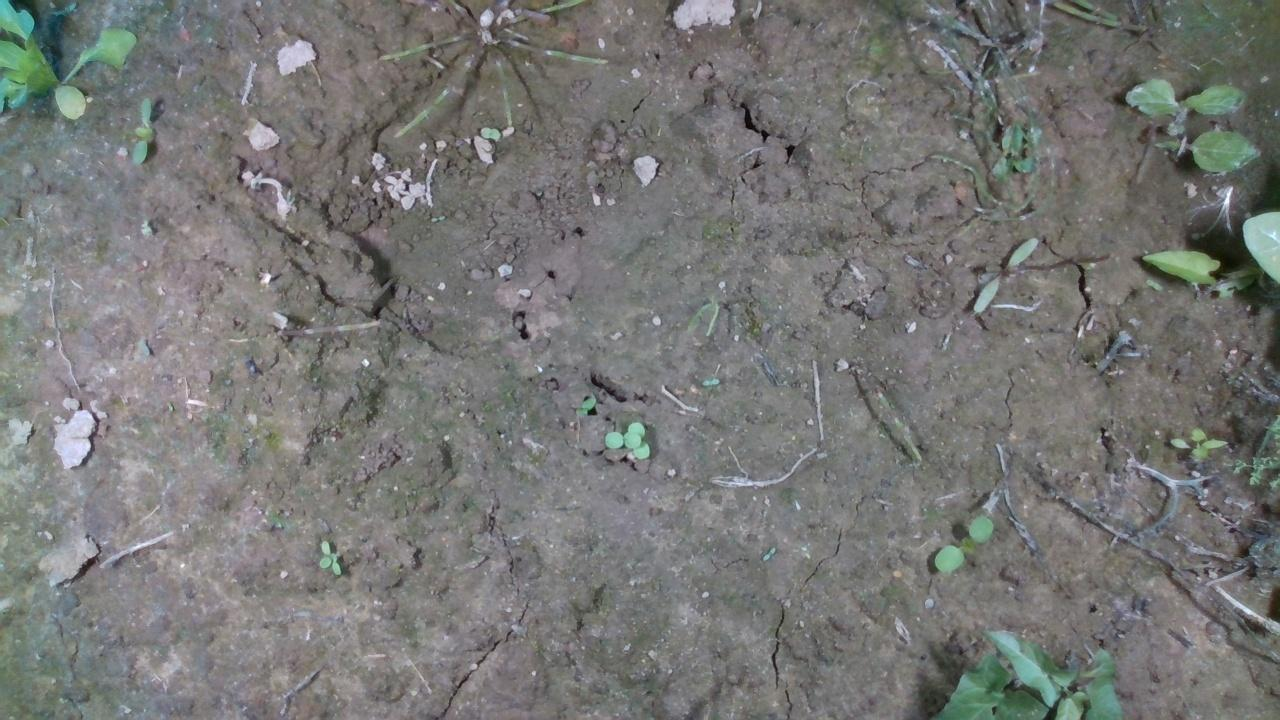weed: (971, 234, 1038, 313), (933, 514, 994, 572), (1166, 424, 1227, 458), (307, 535, 351, 578), (129, 94, 153, 165)
